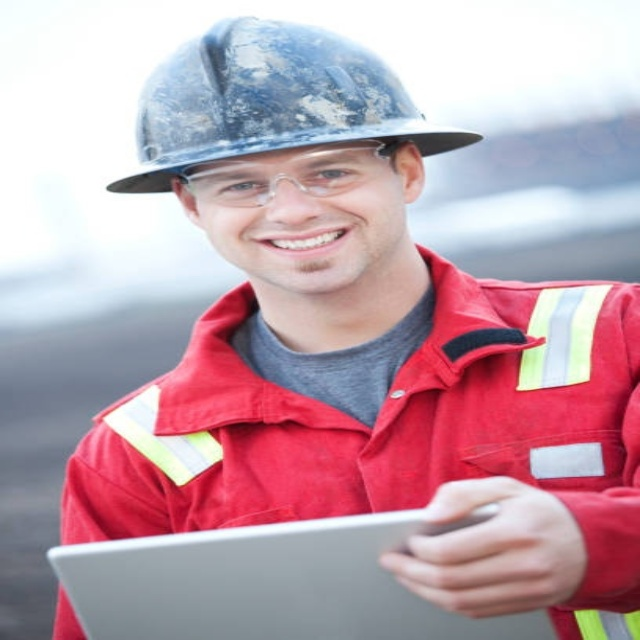Gafas: (177, 145, 399, 209)
Sin_guantes: (377, 475, 591, 621)
Sin_mascara: (237, 224, 367, 257)
